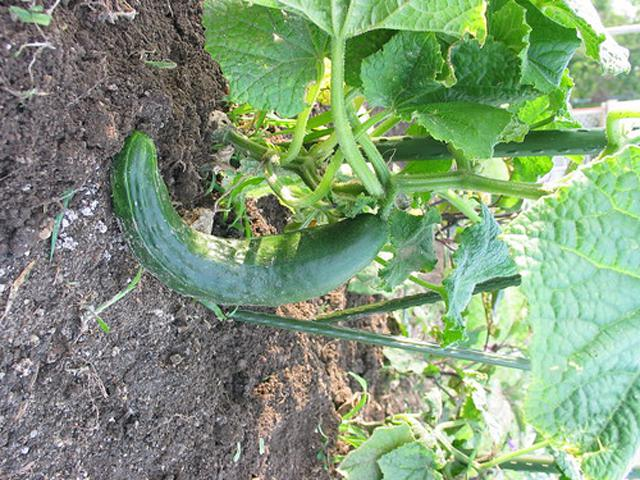cucumber: (109, 129, 389, 307)
